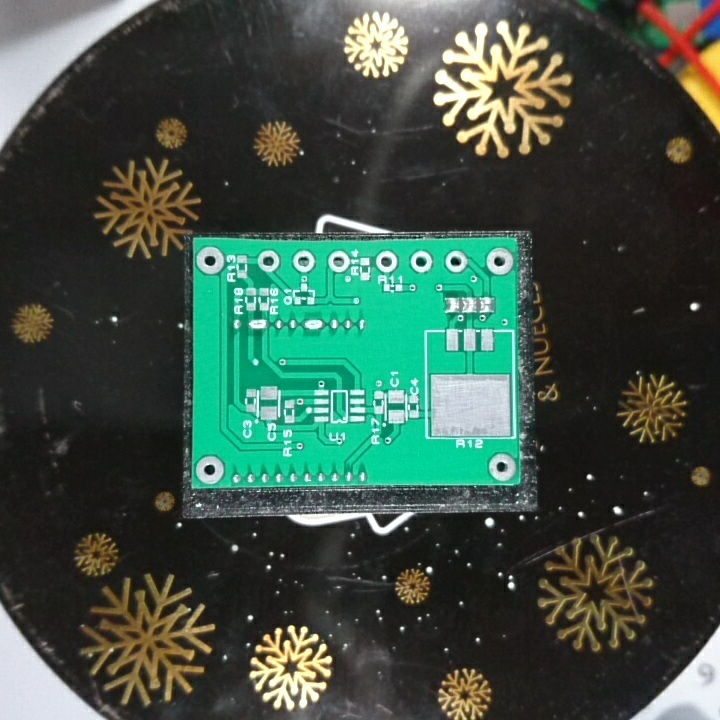F: (485, 450, 520, 482), (195, 245, 227, 277), (483, 247, 515, 277), (194, 454, 225, 482), (290, 249, 318, 278), (442, 248, 469, 275), (408, 248, 435, 275), (327, 248, 352, 277), (256, 248, 282, 275), (373, 248, 399, 274)
P: (300, 314, 327, 334), (246, 316, 271, 336)
